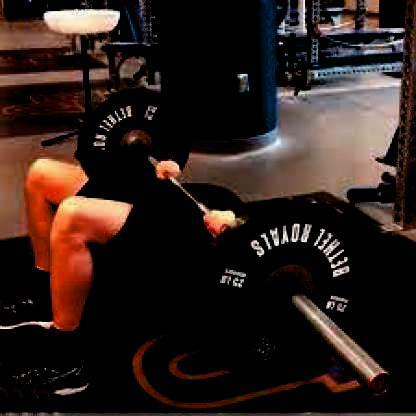Barbell: (368, 369, 394, 399)
